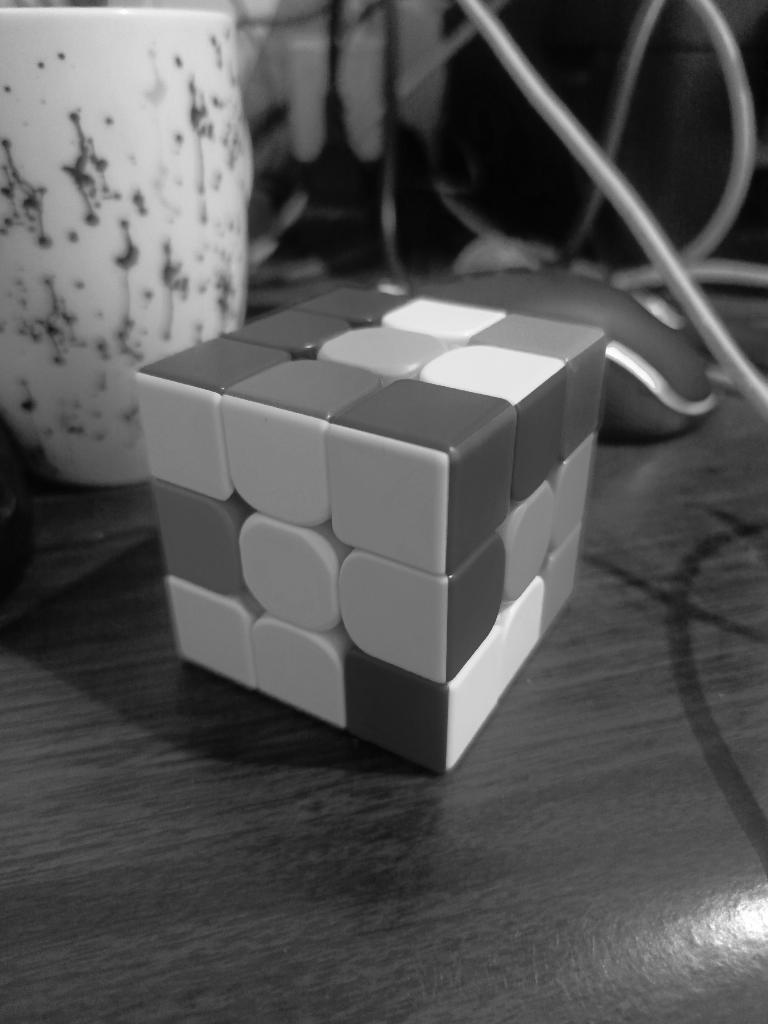rubik: (134, 276, 610, 774)
